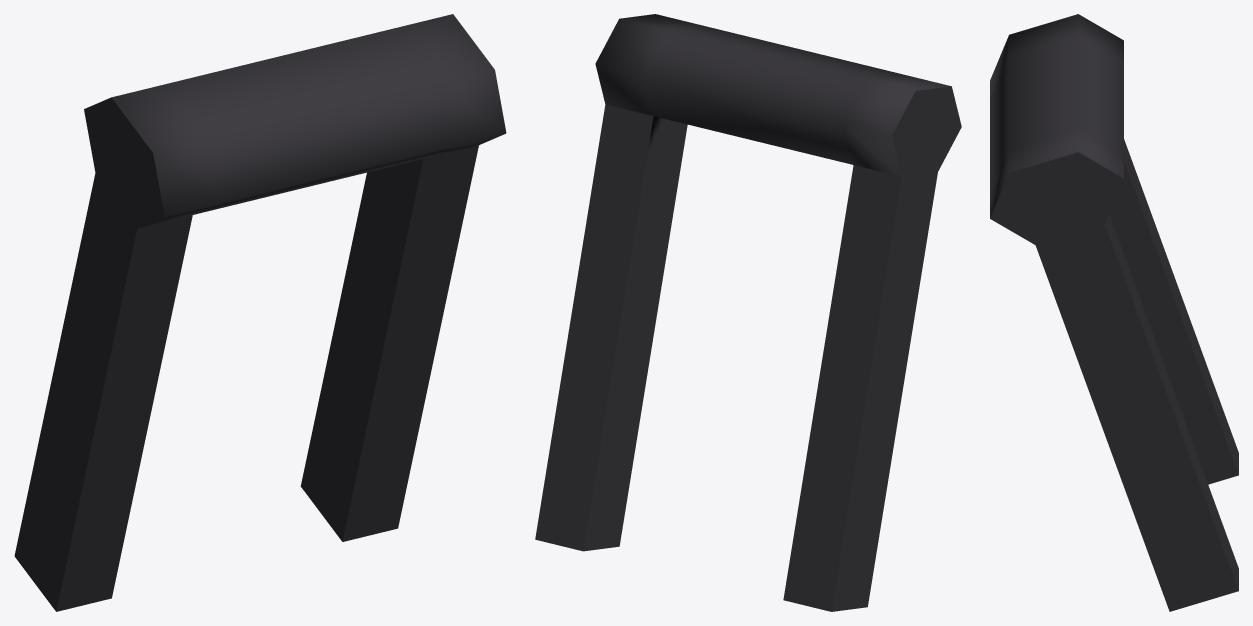
The model's file is Pull_lever.glb.
3 views of the same model, side by side, from view 1: azimuth 30°, elevation 25°; view 2: azimuth 150°, elevation 25°; view 3: azimuth 270°, elevation 25° (orthographic). The views are drawn at different scales.
Visible parts, largest first — view 1: Lever_handle; view 2: Lever_handle; view 3: Lever_handle.
Boxes of the visible parts, bbox=[...] form: Lever_handle: bbox=[14, 14, 506, 611]; Lever_handle: bbox=[535, 14, 961, 611]; Lever_handle: bbox=[990, 14, 1238, 611].
Bounding box in the file's own units: 0.2497 × 0.3874 × 0.1901.
Materials: 1 (1 with a texture image).
